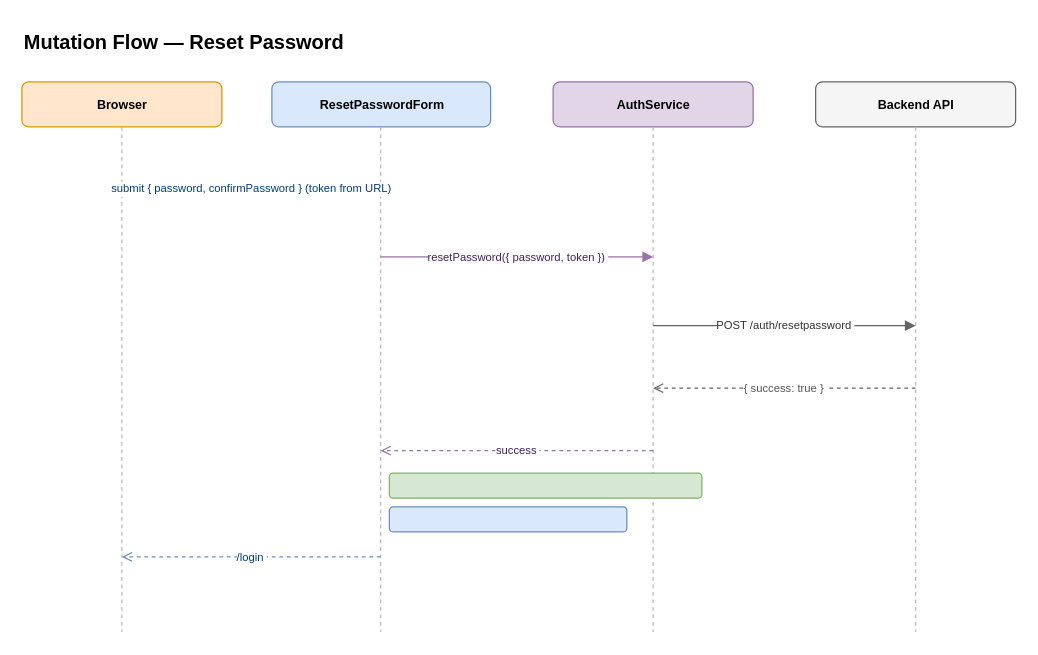
The diagram is 1038 pixels wide and 655 high, and some of its shapes have lost their labels. The centre of each missing label's shape, as x and y in pixels:
[self] router.push('/login'): point (507, 519)
[self] toast 'Password reset successfully.': point (545, 485)
